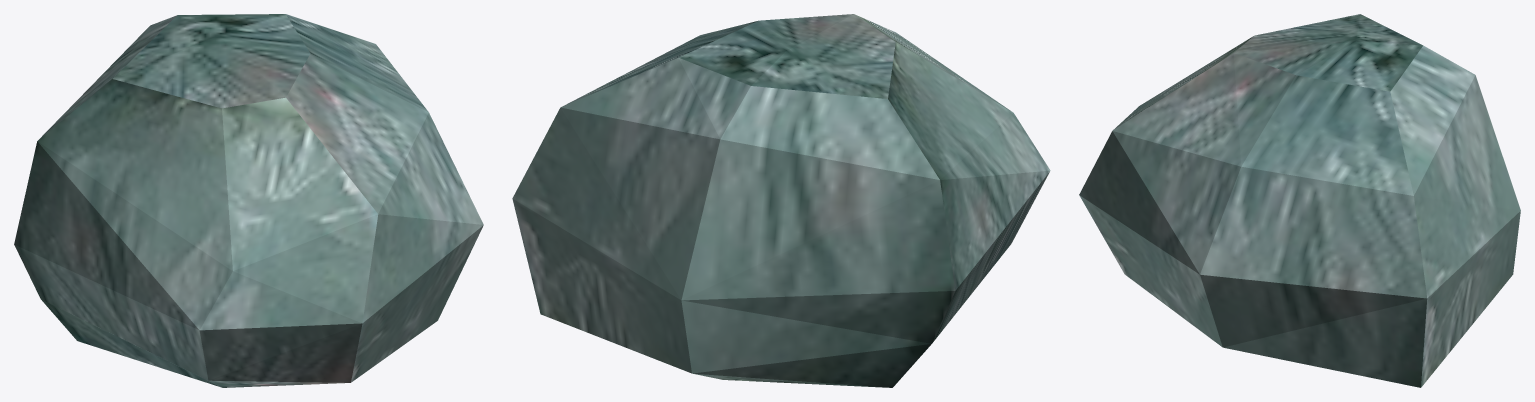
Rendered from Trashbag01.obj.
The picture shows the model from 3 angles, left to right: view 1: azimuth 30°, elevation 25°; view 2: azimuth 150°, elevation 25°; view 3: azimuth 270°, elevation 25°; orthographic projection. The views are drawn at different scales.
Parts seen in each view (by area): view 1: Trashbag01; view 2: Trashbag01; view 3: Trashbag01.
Part boxes in pixels (<box>): Trashbag01: <box>14,14,483,387</box>; Trashbag01: <box>512,14,1050,387</box>; Trashbag01: <box>1079,14,1520,387</box>.
Size of the model in its own units: 1.32 by 0.8734 by 1.34.
